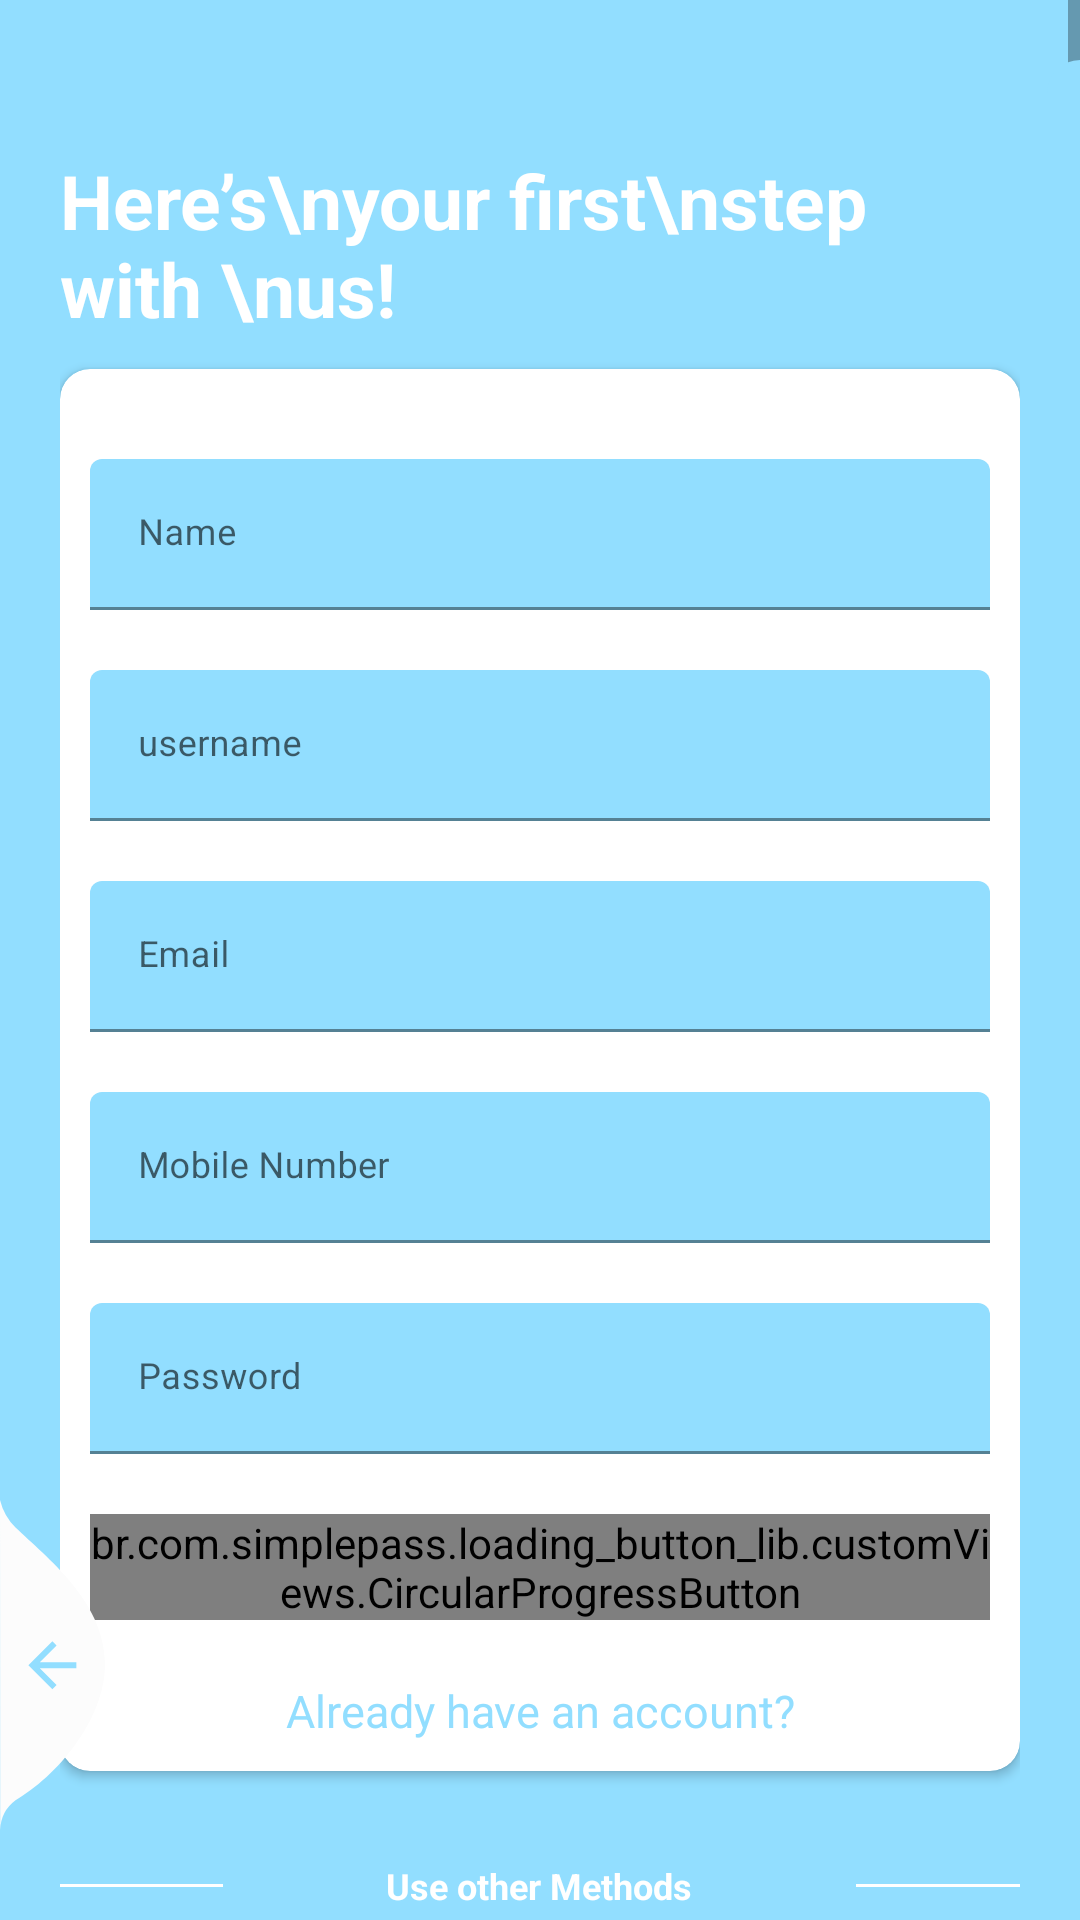

Screen size 1080*1920. Icon name, then its center in pixels as (x=x, y=y):
back: (x=52, y=1665)
